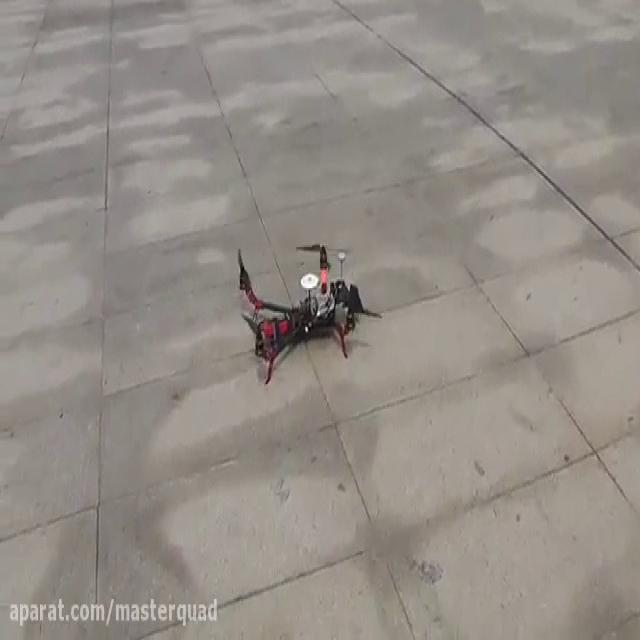drone: (234, 234, 382, 386)
